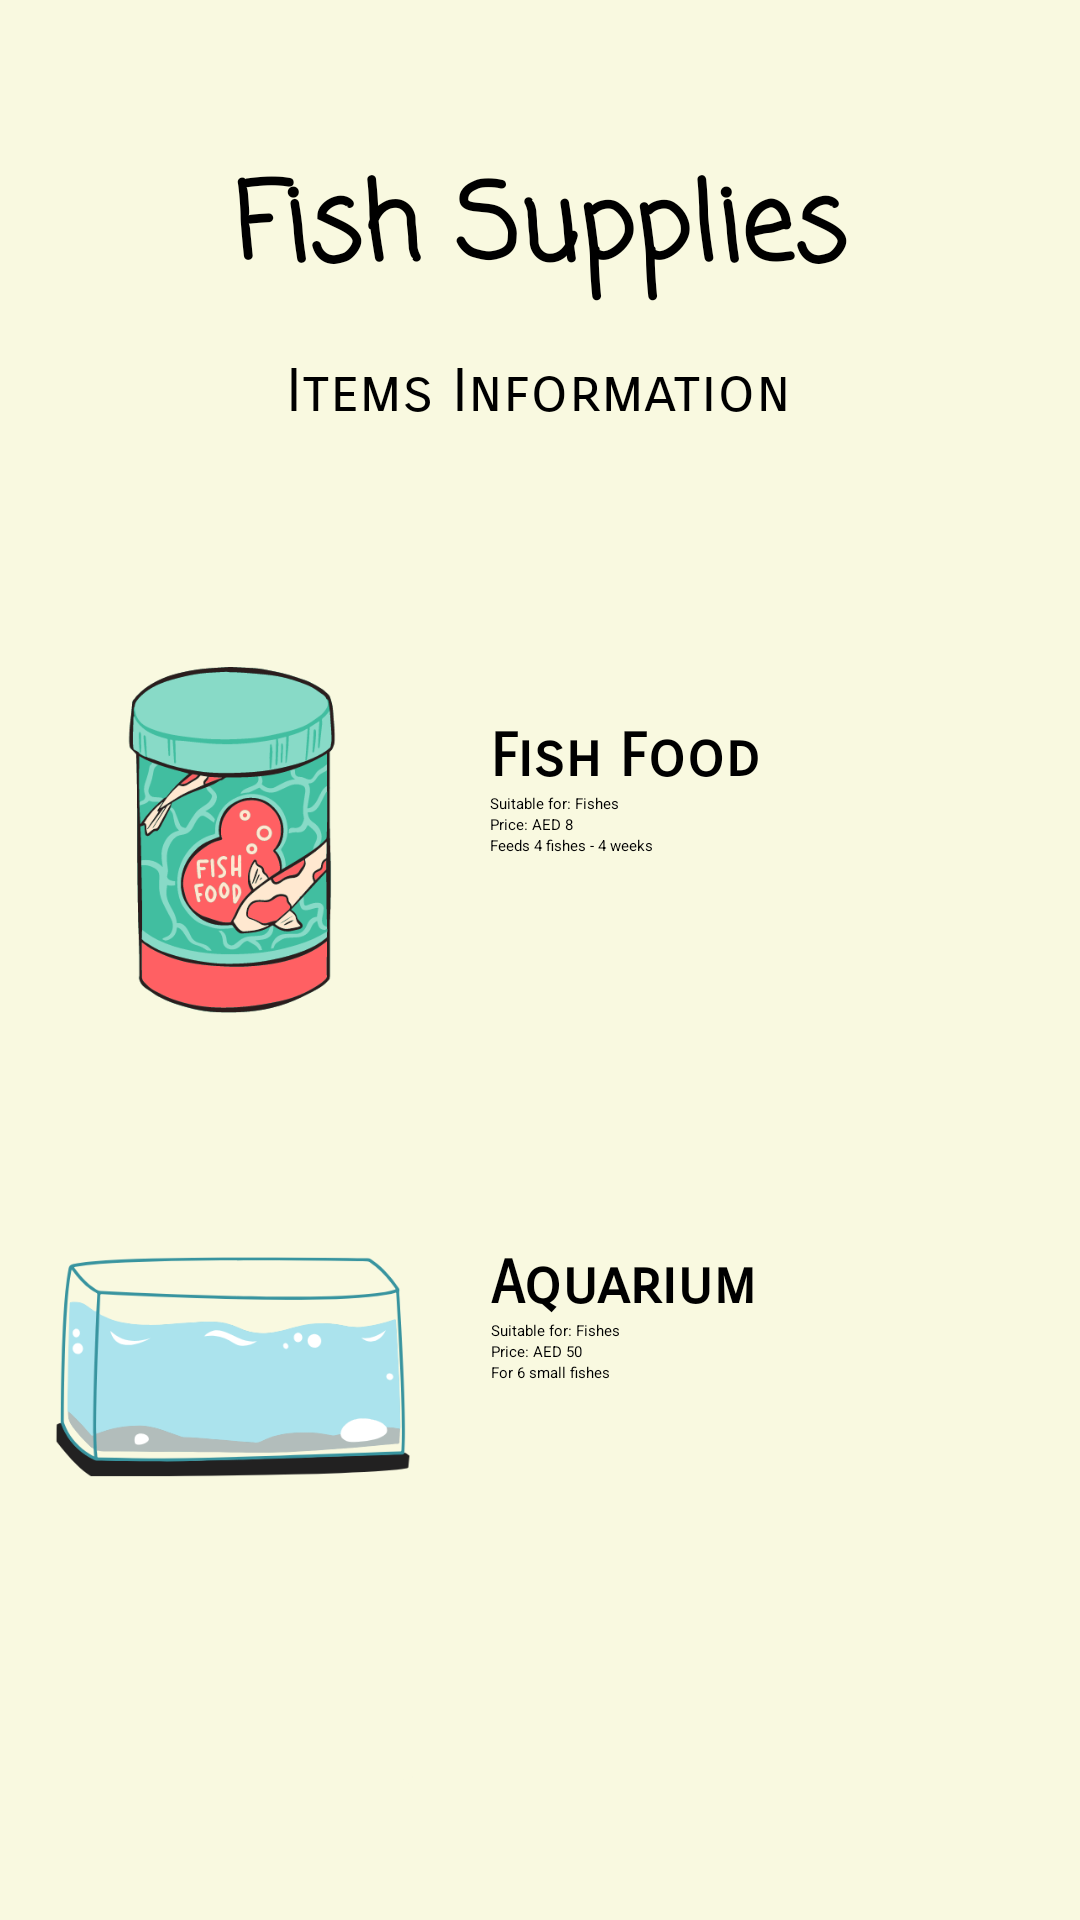

Named icons in this screenshot (1080 × 1920) and their centers, point (x, y):
fishaccessory: point (233, 1367)
